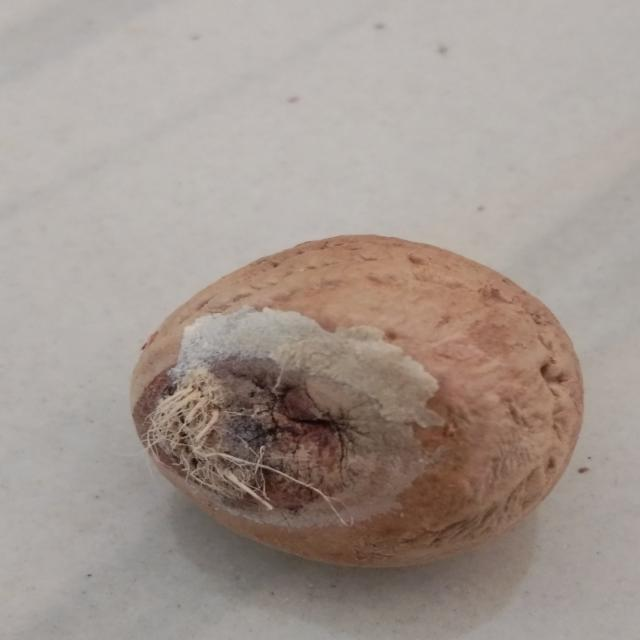phatora: (116, 241, 608, 587)
